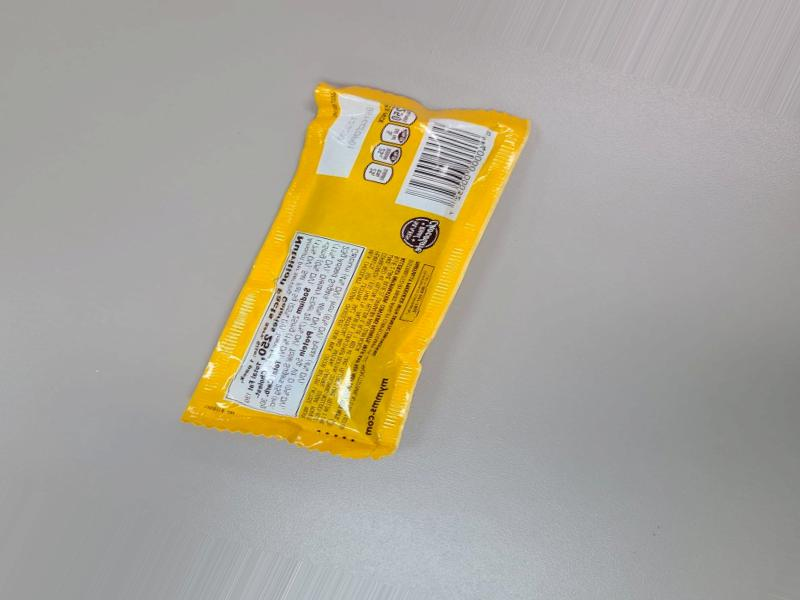m&m: (186, 85, 531, 457)
